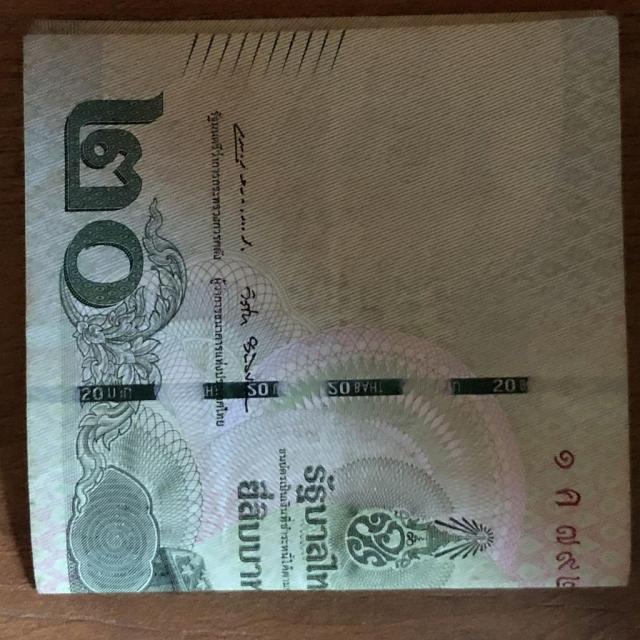THAI20: (24, 14, 630, 595)
